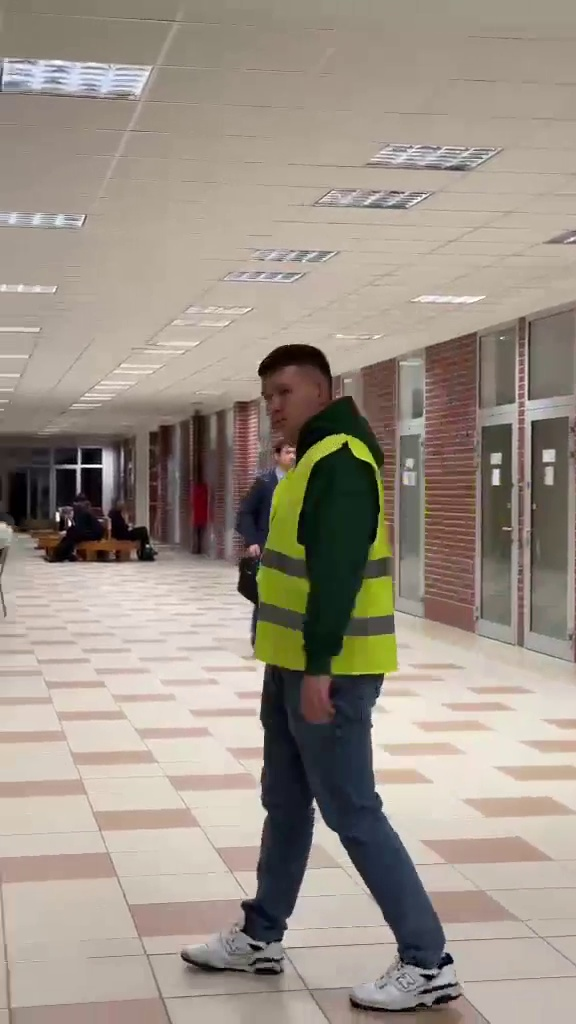vest: (247, 346, 460, 1024)
